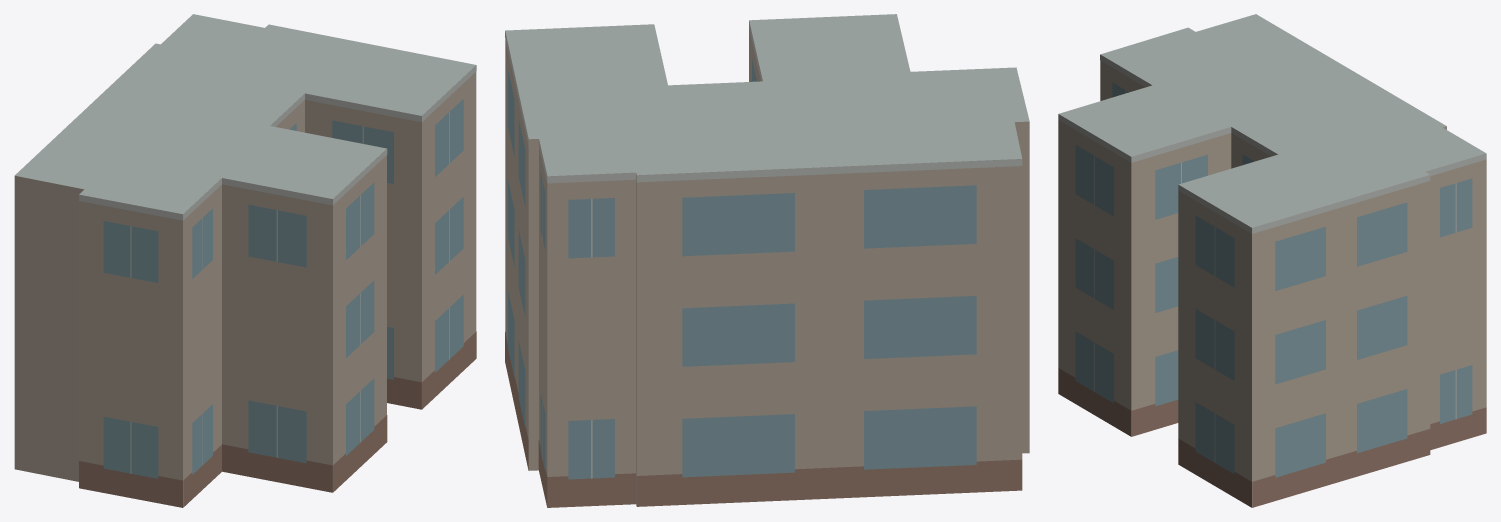
The model's file is survey-upis-32691860.glb.
The picture shows the model from 3 angles, left to right: view 1: azimuth 30°, elevation 25°; view 2: azimuth 150°, elevation 25°; view 3: azimuth 270°, elevation 25°; orthographic projection. The views are drawn at different scales.
Visible parts, largest first — view 1: survey-upis-32691860.tmp; view 2: survey-upis-32691860.tmp; view 3: survey-upis-32691860.tmp.
Part boxes in pixels (box(x1,y1,x2,y2)): survey-upis-32691860.tmp: box(14, 14, 476, 507); survey-upis-32691860.tmp: box(505, 14, 1029, 507); survey-upis-32691860.tmp: box(1058, 14, 1486, 507).
Size of the model in its own units: 18.61 by 11.35 by 15.74.
